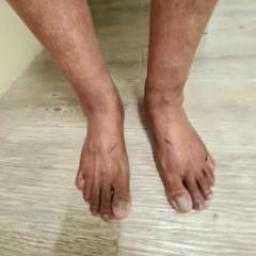Dorsal View -Both Feet-: (42, 43, 246, 238)
